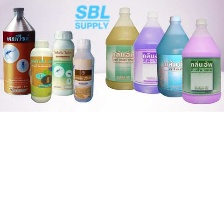insecticide: (178, 16, 223, 107), (102, 5, 146, 92), (130, 10, 171, 98), (0, 6, 37, 98), (154, 14, 193, 100), (47, 27, 77, 96), (70, 37, 97, 104), (26, 38, 51, 105)
